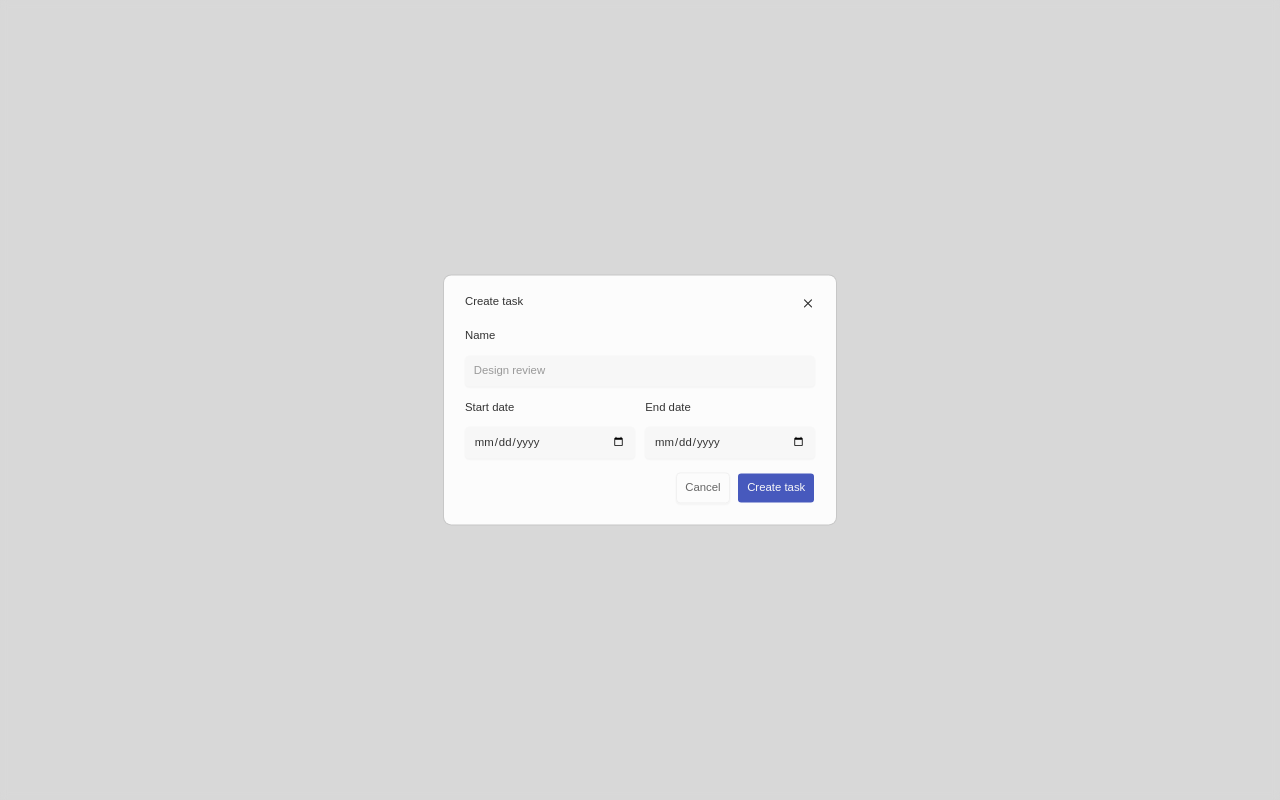
Test: CreateTaskDialog › blocks submit and shows an error when the name is empty
Click the button "Create task". click: (776, 488)
box: [737,472,815,504]
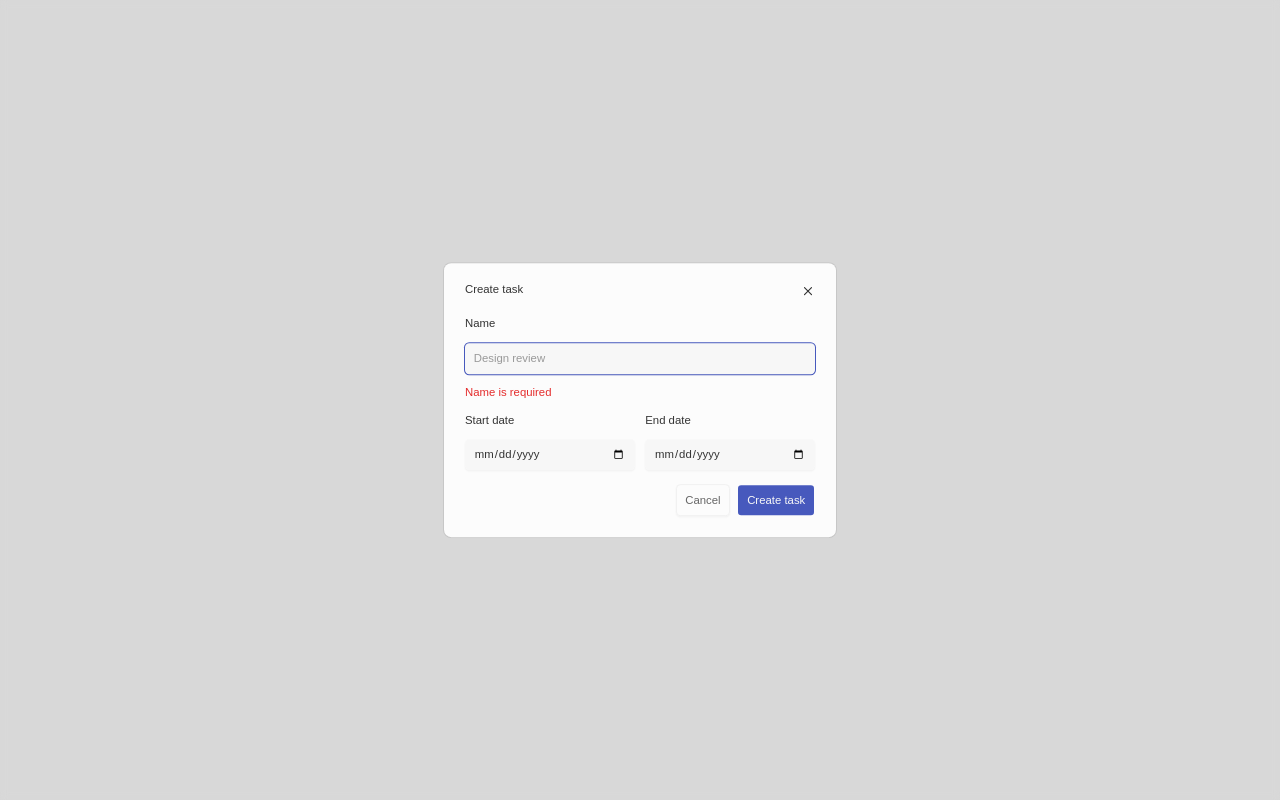
Result: the text "Name is required" is shown at [465,386,552,398]
